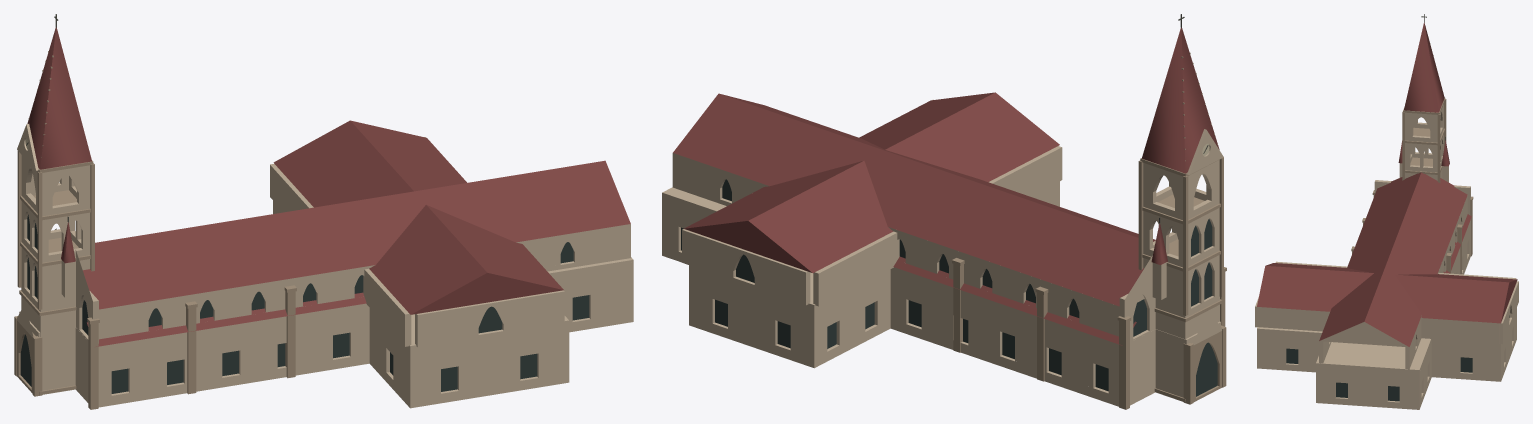
The model's file is iglesia-merced-san-jose-near.glb.
The picture shows the model from 3 angles, left to right: view 1: azimuth 30°, elevation 25°; view 2: azimuth 150°, elevation 25°; view 3: azimuth 270°, elevation 25°; orthographic projection. The views are drawn at different scales.
Visible parts, largest first — view 1: iglesia-merced-san-jose-0-roof, iglesia-merced-san-jose-0-stone, iglesia-merced-san-jose-0-trim, iglesia-merced-san-jose-0-glass; view 2: iglesia-merced-san-jose-0-roof, iglesia-merced-san-jose-0-stone, iglesia-merced-san-jose-0-trim, iglesia-merced-san-jose-0-glass; view 3: iglesia-merced-san-jose-0-roof, iglesia-merced-san-jose-0-stone, iglesia-merced-san-jose-0-trim, iglesia-merced-san-jose-0-glass.
Part boxes in pixels (<box>): iglesia-merced-san-jose-0-roof: <box>27,27,630,346</box>; iglesia-merced-san-jose-0-stone: <box>17,124,633,408</box>; iglesia-merced-san-jose-0-trim: <box>14,51,296,409</box>; iglesia-merced-san-jose-0-glass: <box>20,214,589,393</box>; iglesia-merced-san-jose-0-roof: <box>673,27,1219,345</box>; iglesia-merced-san-jose-0-stone: <box>662,99,1223,406</box>; iglesia-merced-san-jose-0-trim: <box>952,52,1226,409</box>; iglesia-merced-san-jose-0-glass: <box>681,179,1217,396</box>; iglesia-merced-san-jose-0-roof: <box>1257,22,1517,346</box>; iglesia-merced-san-jose-0-stone: <box>1255,104,1518,409</box>; iglesia-merced-san-jose-0-trim: <box>1351,37,1473,274</box>; iglesia-merced-san-jose-0-glass: <box>1286,315,1509,401</box>.
Size of the model in its own units: 65.48 by 41.8 by 42.58.
